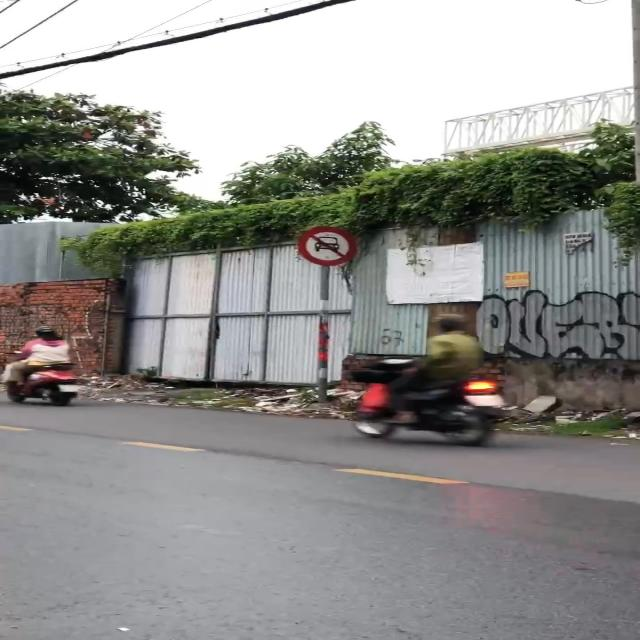Bien bao cam xe oto: (294, 225, 358, 268)
